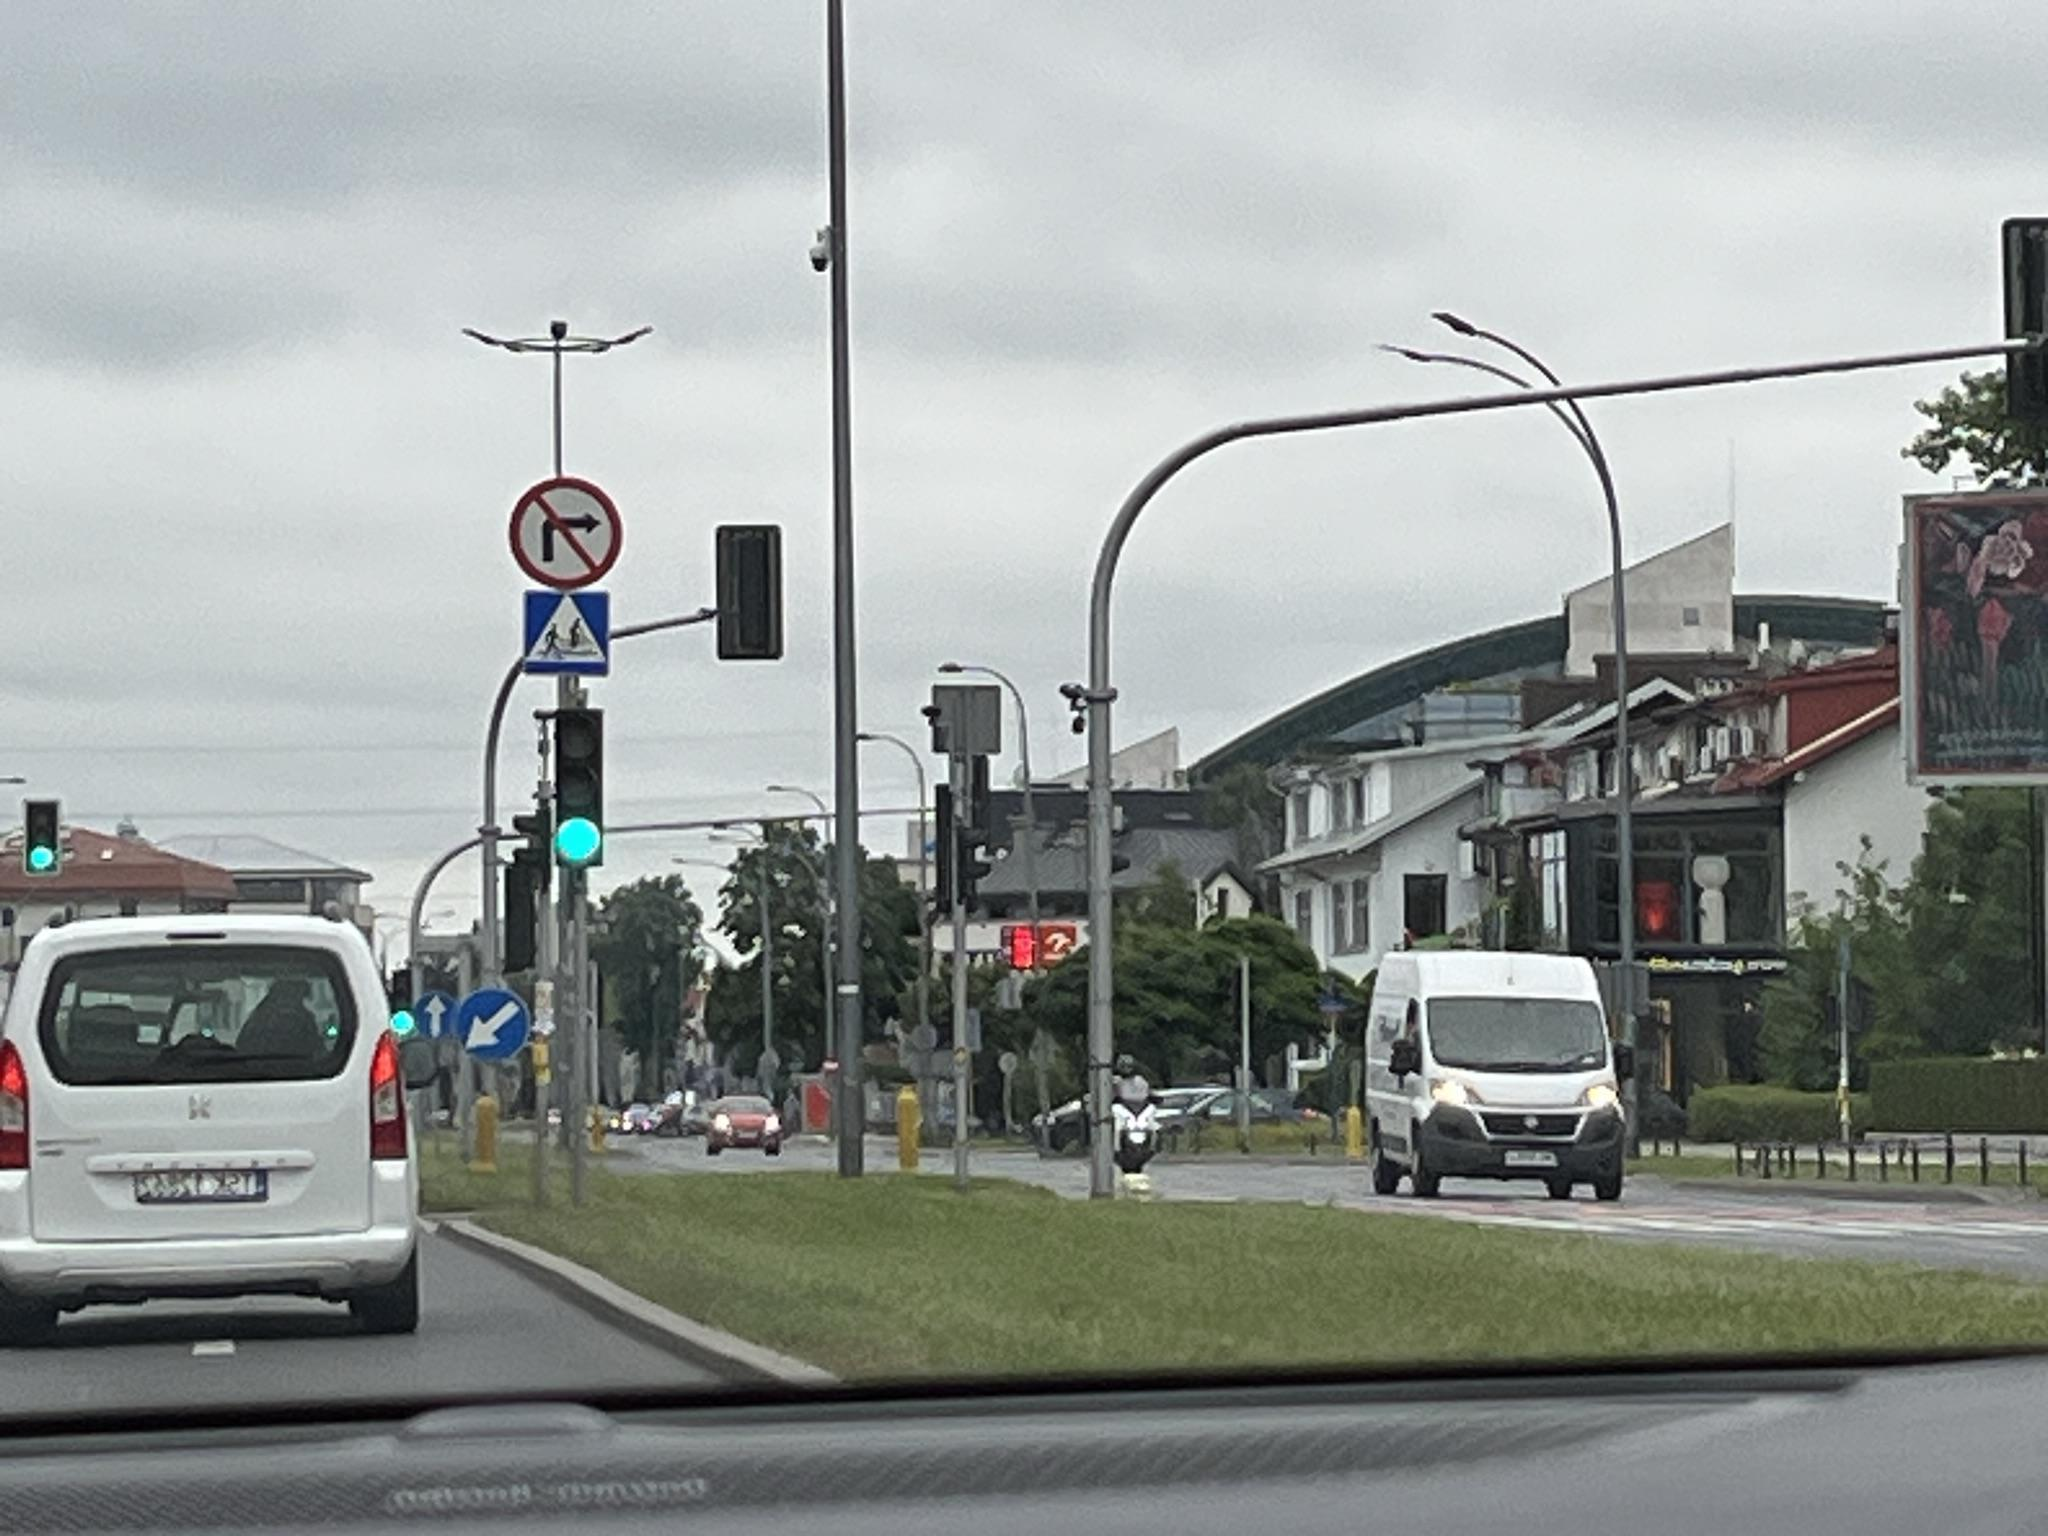information: (521, 589, 611, 678)
mandatory: (455, 986, 531, 1063), (413, 991, 455, 1041)
prohibitory: (508, 474, 624, 592)
